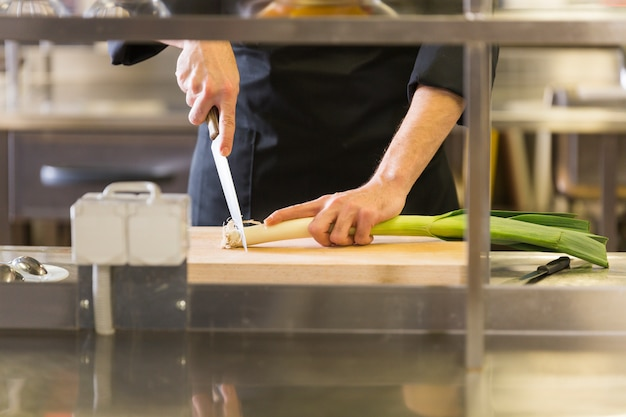knife: (205, 107, 248, 253)
